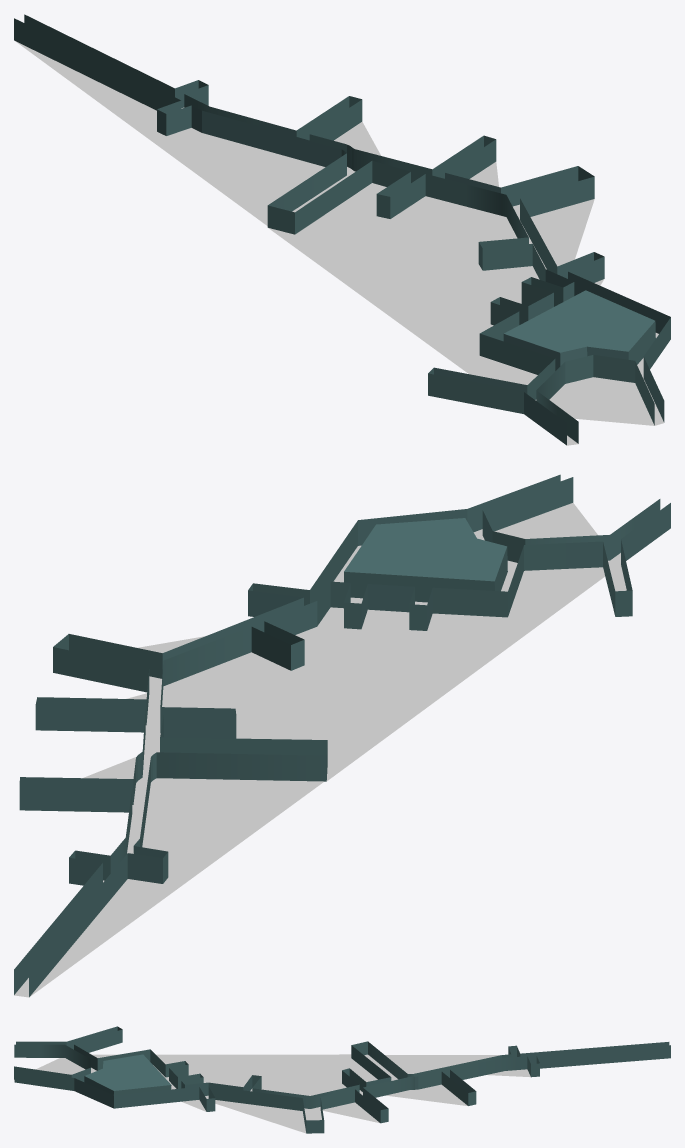
The model's file is fkd8.fbx.
The picture shows the model from 3 angles, top to bottom: view 1: azimuth 30°, elevation 25°; view 2: azimuth 150°, elevation 25°; view 3: azimuth 270°, elevation 25°; orthographic projection. The views are drawn at different scales.
Visible parts, largest first — view 1: 挤压, 封顶_1_2, 封顶_2, 挤压_1; view 2: 挤压, 封顶_1_2, 封顶_2, 挤压_1; view 3: 挤压, 封顶_1_2, 封顶_2, 挤压_1.
Boxes of the visible parts, x1,y1,x2,y2 form: 挤压: [14, 14, 670, 445]; 封顶_1_2: [14, 40, 663, 445]; 封顶_2: [504, 290, 654, 352]; 挤压_1: [503, 321, 655, 370]; 挤压: [14, 474, 670, 997]; 封顶_1_2: [14, 503, 626, 997]; 封顶_2: [344, 518, 506, 581]; 挤压_1: [344, 547, 507, 602]; 挤压: [14, 1026, 670, 1133]; 封顶_1_2: [14, 1054, 530, 1133]; 封顶_2: [85, 1054, 170, 1090]; 挤压_1: [84, 1076, 171, 1095].
Size of the model in its own units: 7671 by 500 by 22631.
